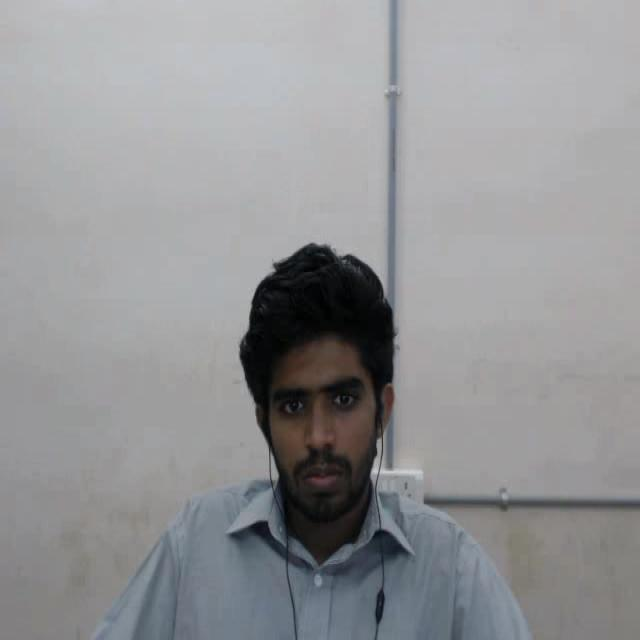Engaged: (213, 219, 414, 538)
